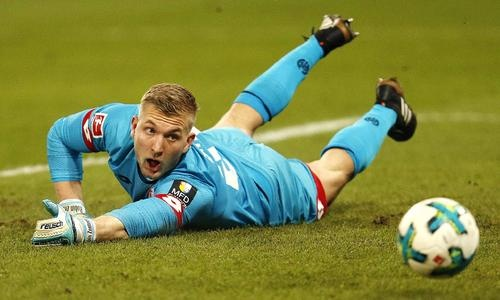falling: (37, 10, 424, 251)
